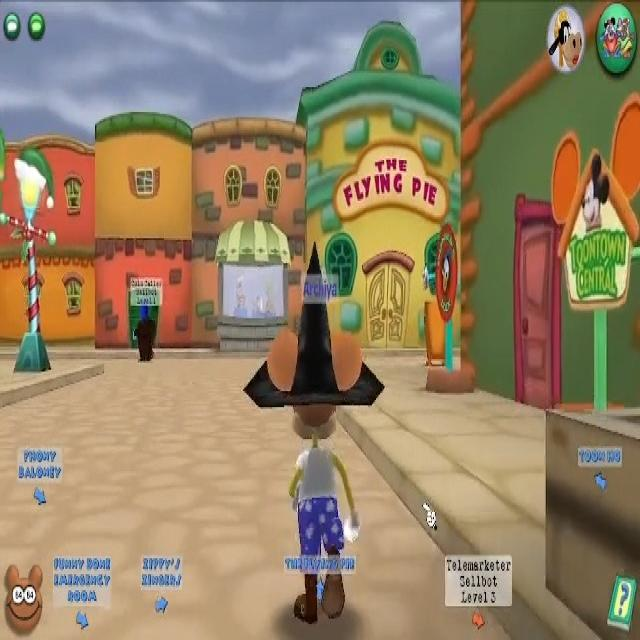coldcaller: (127, 276, 162, 362)
